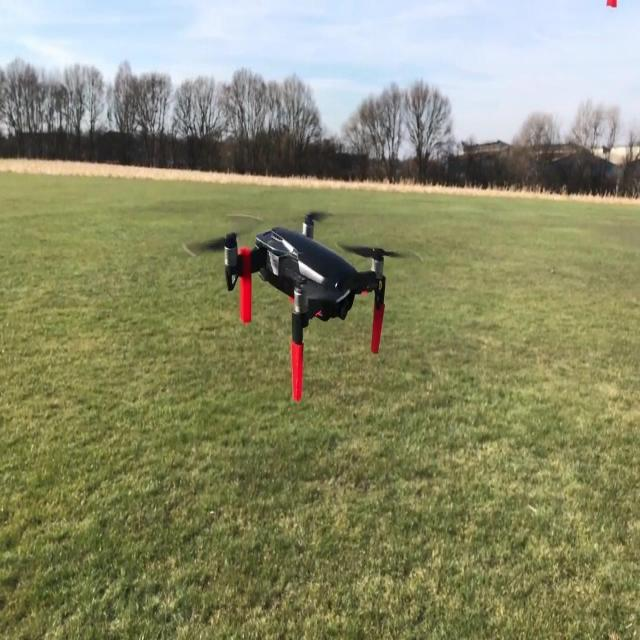UAV: (184, 210, 407, 402)
